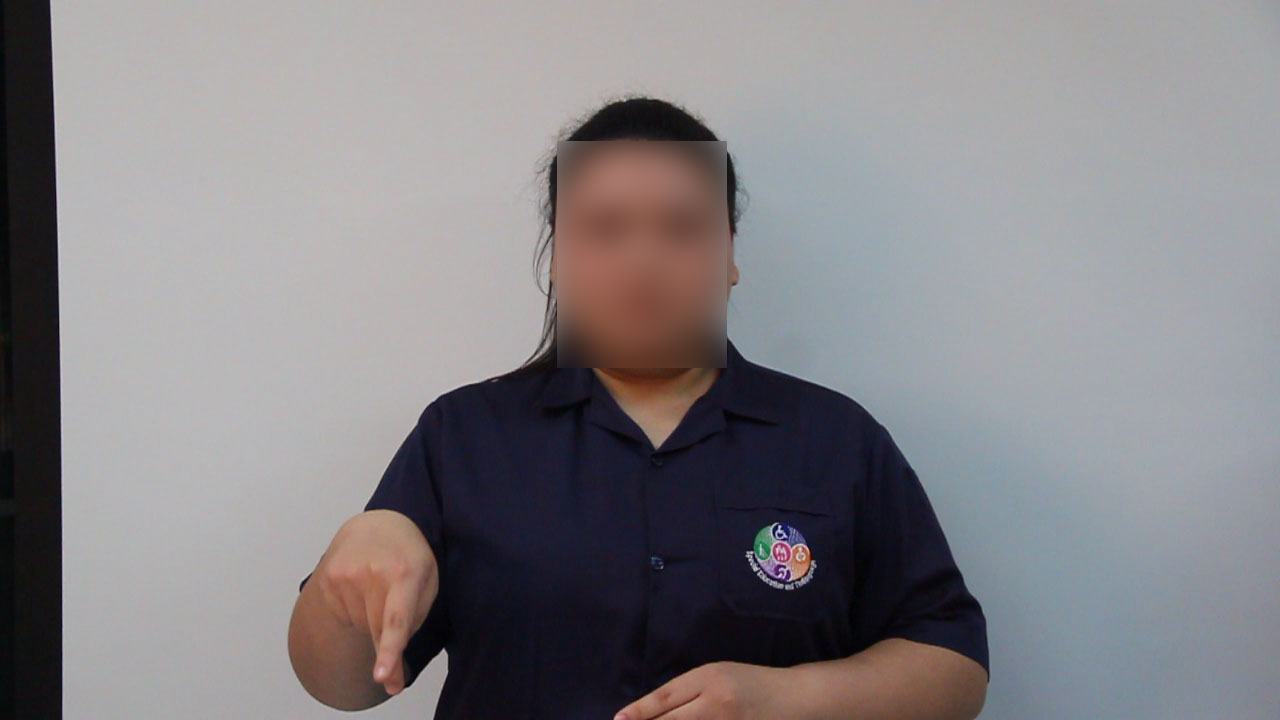por: (311, 497, 446, 703)
